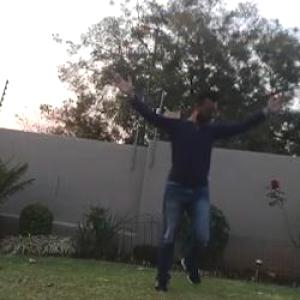takeoff: (112, 77, 290, 299)
